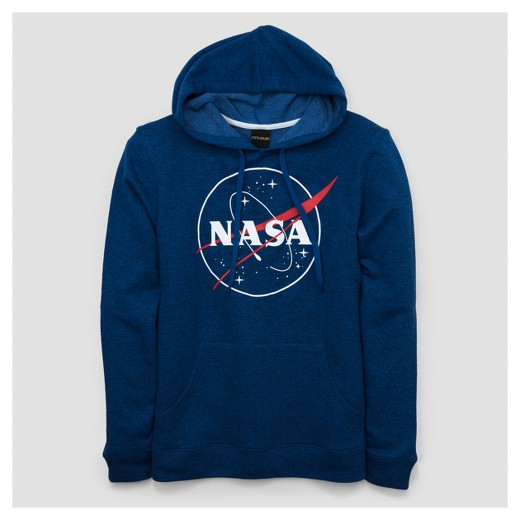NASA: (193, 169, 341, 297)
